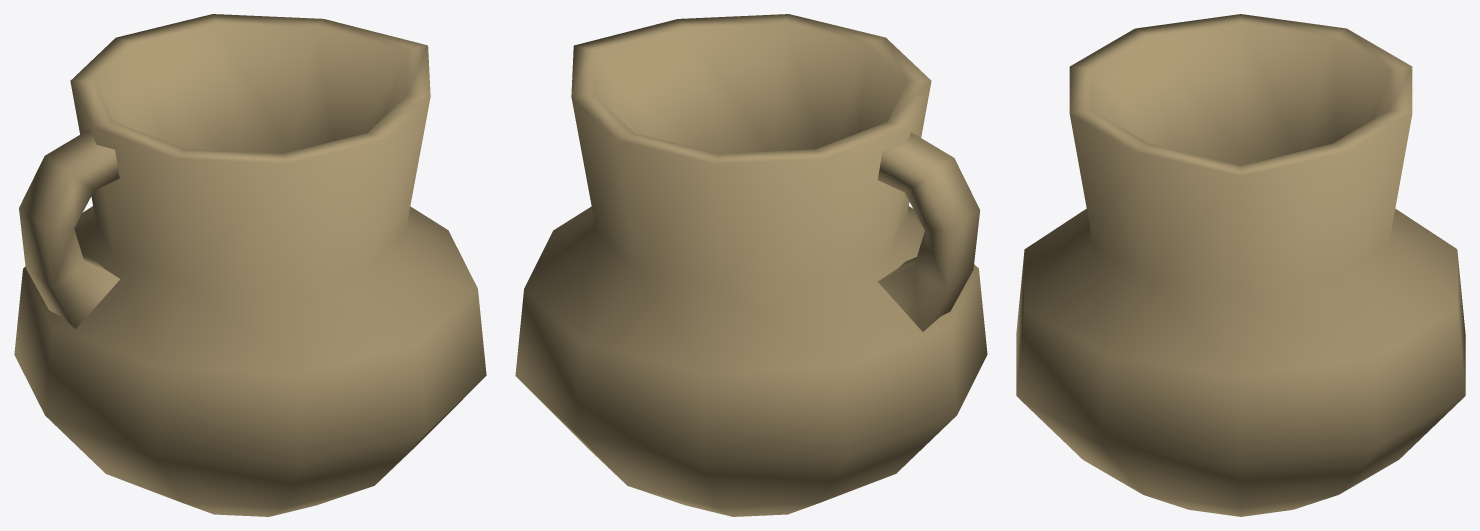
Rendered from rpgpp_ag_jug_01a.fbx.
3 views of the same model, side by side, from view 1: azimuth 30°, elevation 25°; view 2: azimuth 150°, elevation 25°; view 3: azimuth 270°, elevation 25° (orthographic).
Visible parts, largest first — view 1: rpgpp_ag_jug_01a; view 2: rpgpp_ag_jug_01a; view 3: rpgpp_ag_jug_01a.
Part boxes in pixels (<box>): rpgpp_ag_jug_01a: <box>14,14,486,516</box>; rpgpp_ag_jug_01a: <box>515,14,987,516</box>; rpgpp_ag_jug_01a: <box>1016,14,1465,516</box>.
Bounding box in the file's own units: 0.3345 × 0.2961 × 0.3098.
